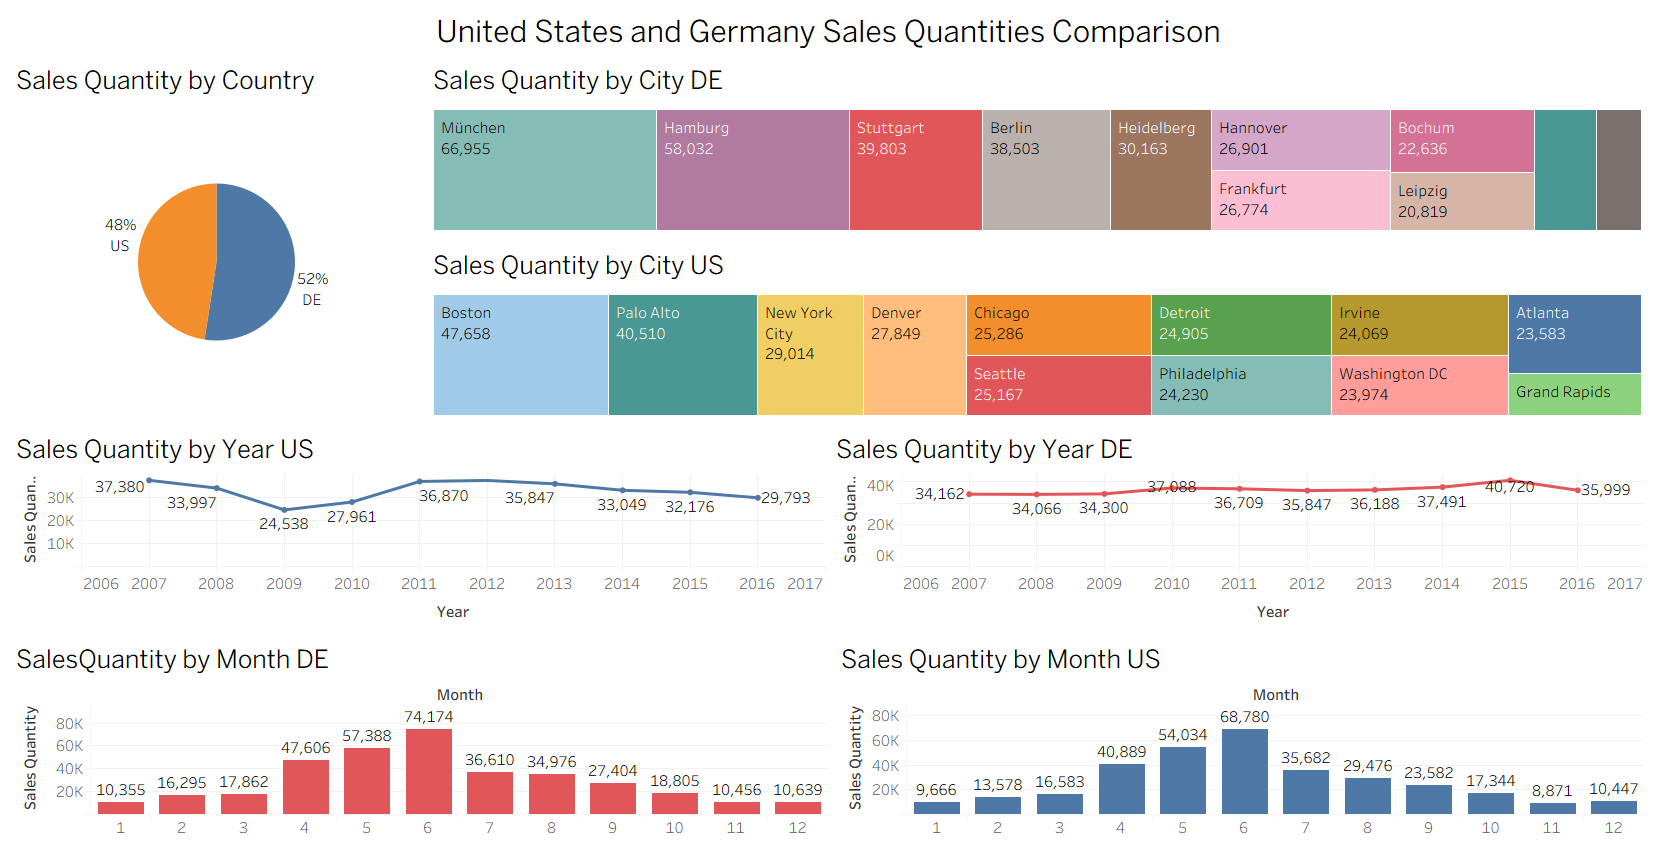

The dashboard page shown, as its layout file describes it:
{"tool":"tableau","page":{"name":" Market Research","canvas":[1000,1000],"units":"permille","ordinal":0},"visuals":[{"type":"title","box":[8.6,9.5,982.7,54.7]},{"type":"worksheet","title":"uantity by Country","mark":"Pie","box":[8.6,64.2,249.7,433.2]},{"type":"worksheet","title":"SalesQuantity by City DE","mark":"Automatic","box":[258.4,64.2,733,216.5]},{"type":"worksheet","title":"Sales Quantity by City US","mark":"Automatic","box":[258.4,280.7,733,216.6]},{"type":"worksheet","title":"Sales Quantity by Year US","mark":"Automatic","rows":["SalesQuantity"],"cols":["YEAR"],"box":[8.6,497.4,491.4,246.5]},{"type":"worksheet","title":"Sales Quantity by Year DE","mark":"Automatic","rows":["SalesQuantity"],"cols":["YEAR"],"box":[500,497.4,491.4,246.5]},{"type":"worksheet","title":" SalesQuantity by Month DE","mark":"Automatic","rows":["SalesQuantity"],"cols":["MONTH"],"box":[8.6,743.9,496.2,246.6]},{"type":"worksheet","title":" Sales Quantity by Month US","mark":"Automatic","rows":["SalesQuantity"],"cols":["MONTH"],"box":[504.8,743.9,486.5,246.6]}]}

Visuals, with their boxes on the dashboard's canvas, which has no fixed pixel size, in thousandths of its width and height (x1, y1, x2, y2). These are canvas units, not pixel positions in the 1657x851 screenshot, which may show the page scaled, cropped or inside an application window:
title: 9,10,991,64
"uantity by Country" worksheet (Pie marks): 9,64,258,497
"SalesQuantity by City DE" worksheet: 258,64,991,281
"Sales Quantity by City US" worksheet: 258,281,991,497
"Sales Quantity by Year US" worksheet: 9,497,500,744
"Sales Quantity by Year DE" worksheet: 500,497,991,744
" SalesQuantity by Month DE" worksheet: 9,744,505,990
" Sales Quantity by Month US" worksheet: 505,744,991,990
